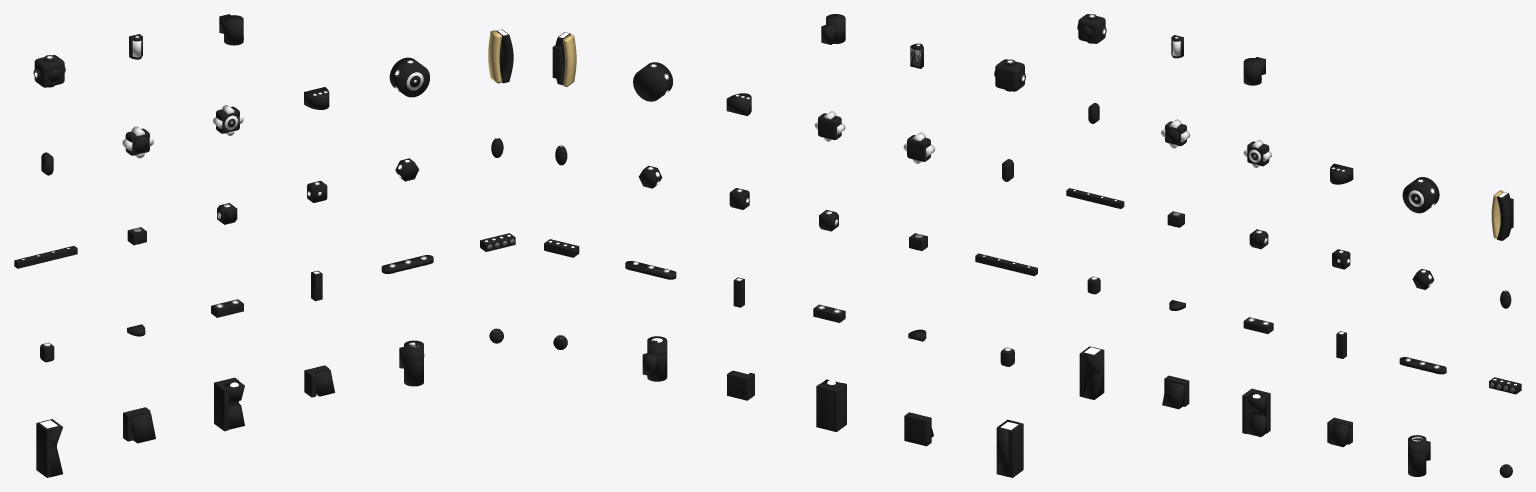
The model's file is outdoor.glb.
The picture shows the model from 3 angles, left to right: view 1: azimuth 30°, elevation 25°; view 2: azimuth 150°, elevation 25°; view 3: azimuth 330°, elevation 25°; orthographic projection. The views are drawn at different scales.
Parts seen in each view (by area): view 1: OD_MINIK, OD_KTYPE, OD_FLORA, OD_MYSTIC, OD_ZYREX, OD_KSINGLE, OD_FOURWAY, OD_MINIK3, OD_IBALL, OD_ZYREX5, OD_IBALLA, OD_GALAXY (+1 smaller); view 2: OD_KTYPE, OD_MINIK, OD_FLORA, OD_MYSTIC, OD_ZYREX, OD_FOURWAY, OD_KSINGLE, OD_MINIK3, OD_IBALL, OD_ZYREX5, OD_IBALLA, OD_GALAXY (+1 smaller); view 3: OD_KTYPE, OD_MINIK, OD_FLORA, OD_MYSTIC, OD_ZYREX, OD_KSINGLE, OD_FOURWAY, OD_MINIK3, OD_IBALL, OD_ZYREX5, OD_IBALLA, OD_GALAXY.
Boxes of the visible parts, bbox=[...] form: OD_MINIK: bbox=[214, 377, 244, 431]; OD_KTYPE: bbox=[36, 419, 62, 477]; OD_FLORA: bbox=[389, 57, 429, 97]; OD_MYSTIC: bbox=[488, 29, 513, 83]; OD_ZYREX: bbox=[399, 340, 424, 386]; OD_KSINGLE: bbox=[123, 407, 155, 443]; OD_FOURWAY: bbox=[33, 55, 65, 87]; OD_MINIK3: bbox=[304, 365, 334, 397]; OD_IBALL: bbox=[122, 126, 153, 158]; OD_ZYREX5: bbox=[219, 14, 243, 45]; OD_IBALLA: bbox=[212, 105, 243, 135]; OD_GALAXY: bbox=[14, 246, 77, 268]; OD_KTYPE: bbox=[996, 419, 1023, 477]; OD_MINIK: bbox=[816, 379, 846, 431]; OD_FLORA: bbox=[633, 62, 672, 101]; OD_MYSTIC: bbox=[552, 32, 576, 86]; OD_ZYREX: bbox=[642, 336, 667, 381]; OD_FOURWAY: bbox=[994, 59, 1025, 91]; OD_KSINGLE: bbox=[904, 412, 933, 446]; OD_MINIK3: bbox=[727, 370, 754, 400]; OD_IBALL: bbox=[903, 132, 935, 163]; OD_ZYREX5: bbox=[821, 14, 845, 44]; OD_IBALLA: bbox=[814, 111, 845, 141]; OD_GALAXY: bbox=[975, 253, 1037, 276]; OD_KTYPE: bbox=[1079, 346, 1104, 399]; OD_MINIK: bbox=[1242, 388, 1270, 436]; OD_FLORA: bbox=[1402, 177, 1439, 213]; OD_MYSTIC: bbox=[1491, 190, 1513, 240]; OD_ZYREX: bbox=[1408, 435, 1430, 476]; OD_KSINGLE: bbox=[1162, 375, 1189, 409]; OD_FOURWAY: bbox=[1077, 14, 1106, 43]; OD_MINIK3: bbox=[1327, 417, 1352, 447]; OD_IBALL: bbox=[1161, 119, 1190, 148]; OD_ZYREX5: bbox=[1243, 57, 1265, 85]; OD_IBALLA: bbox=[1243, 140, 1271, 168]; OD_GALAXY: bbox=[1066, 188, 1124, 208].
Size of the model in its own units: 1.65 by 1.32 by 0.0839.
